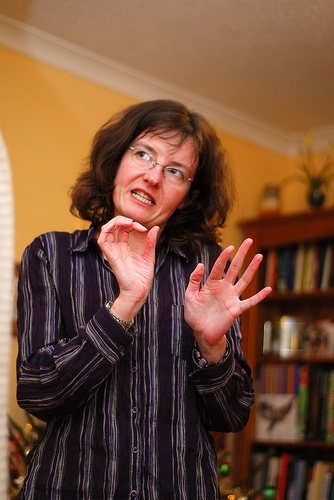head: (109, 100, 204, 224)
person: (14, 94, 251, 500)
